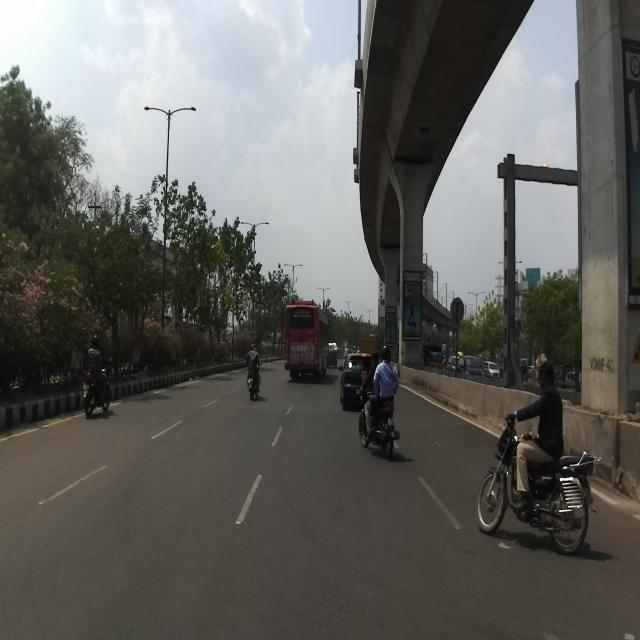motorcycle: (476, 411, 602, 555), (358, 388, 400, 459), (82, 357, 112, 417)
